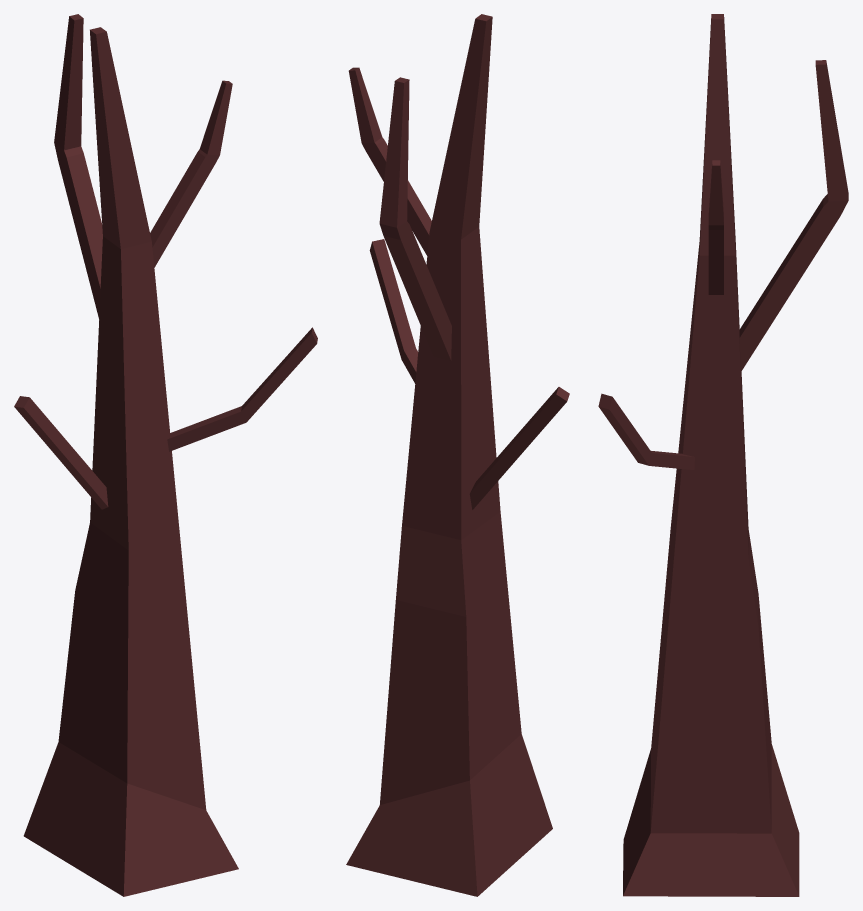
The model's file is BrokenTree.fbx.
The picture shows the model from 3 angles, left to right: view 1: azimuth 30°, elevation 25°; view 2: azimuth 150°, elevation 25°; view 3: azimuth 270°, elevation 25°; orthographic projection.
Parts seen in each view (by area): view 1: Cube.003; view 2: Cube.003; view 3: Cube.003.
Boxes of the visible parts, box(x1,y1,x2,y2) form: Cube.003: box(14, 14, 317, 896); Cube.003: box(346, 14, 569, 896); Cube.003: box(598, 14, 848, 896).
Bounding box in the file's own units: 304 × 964 × 262.
